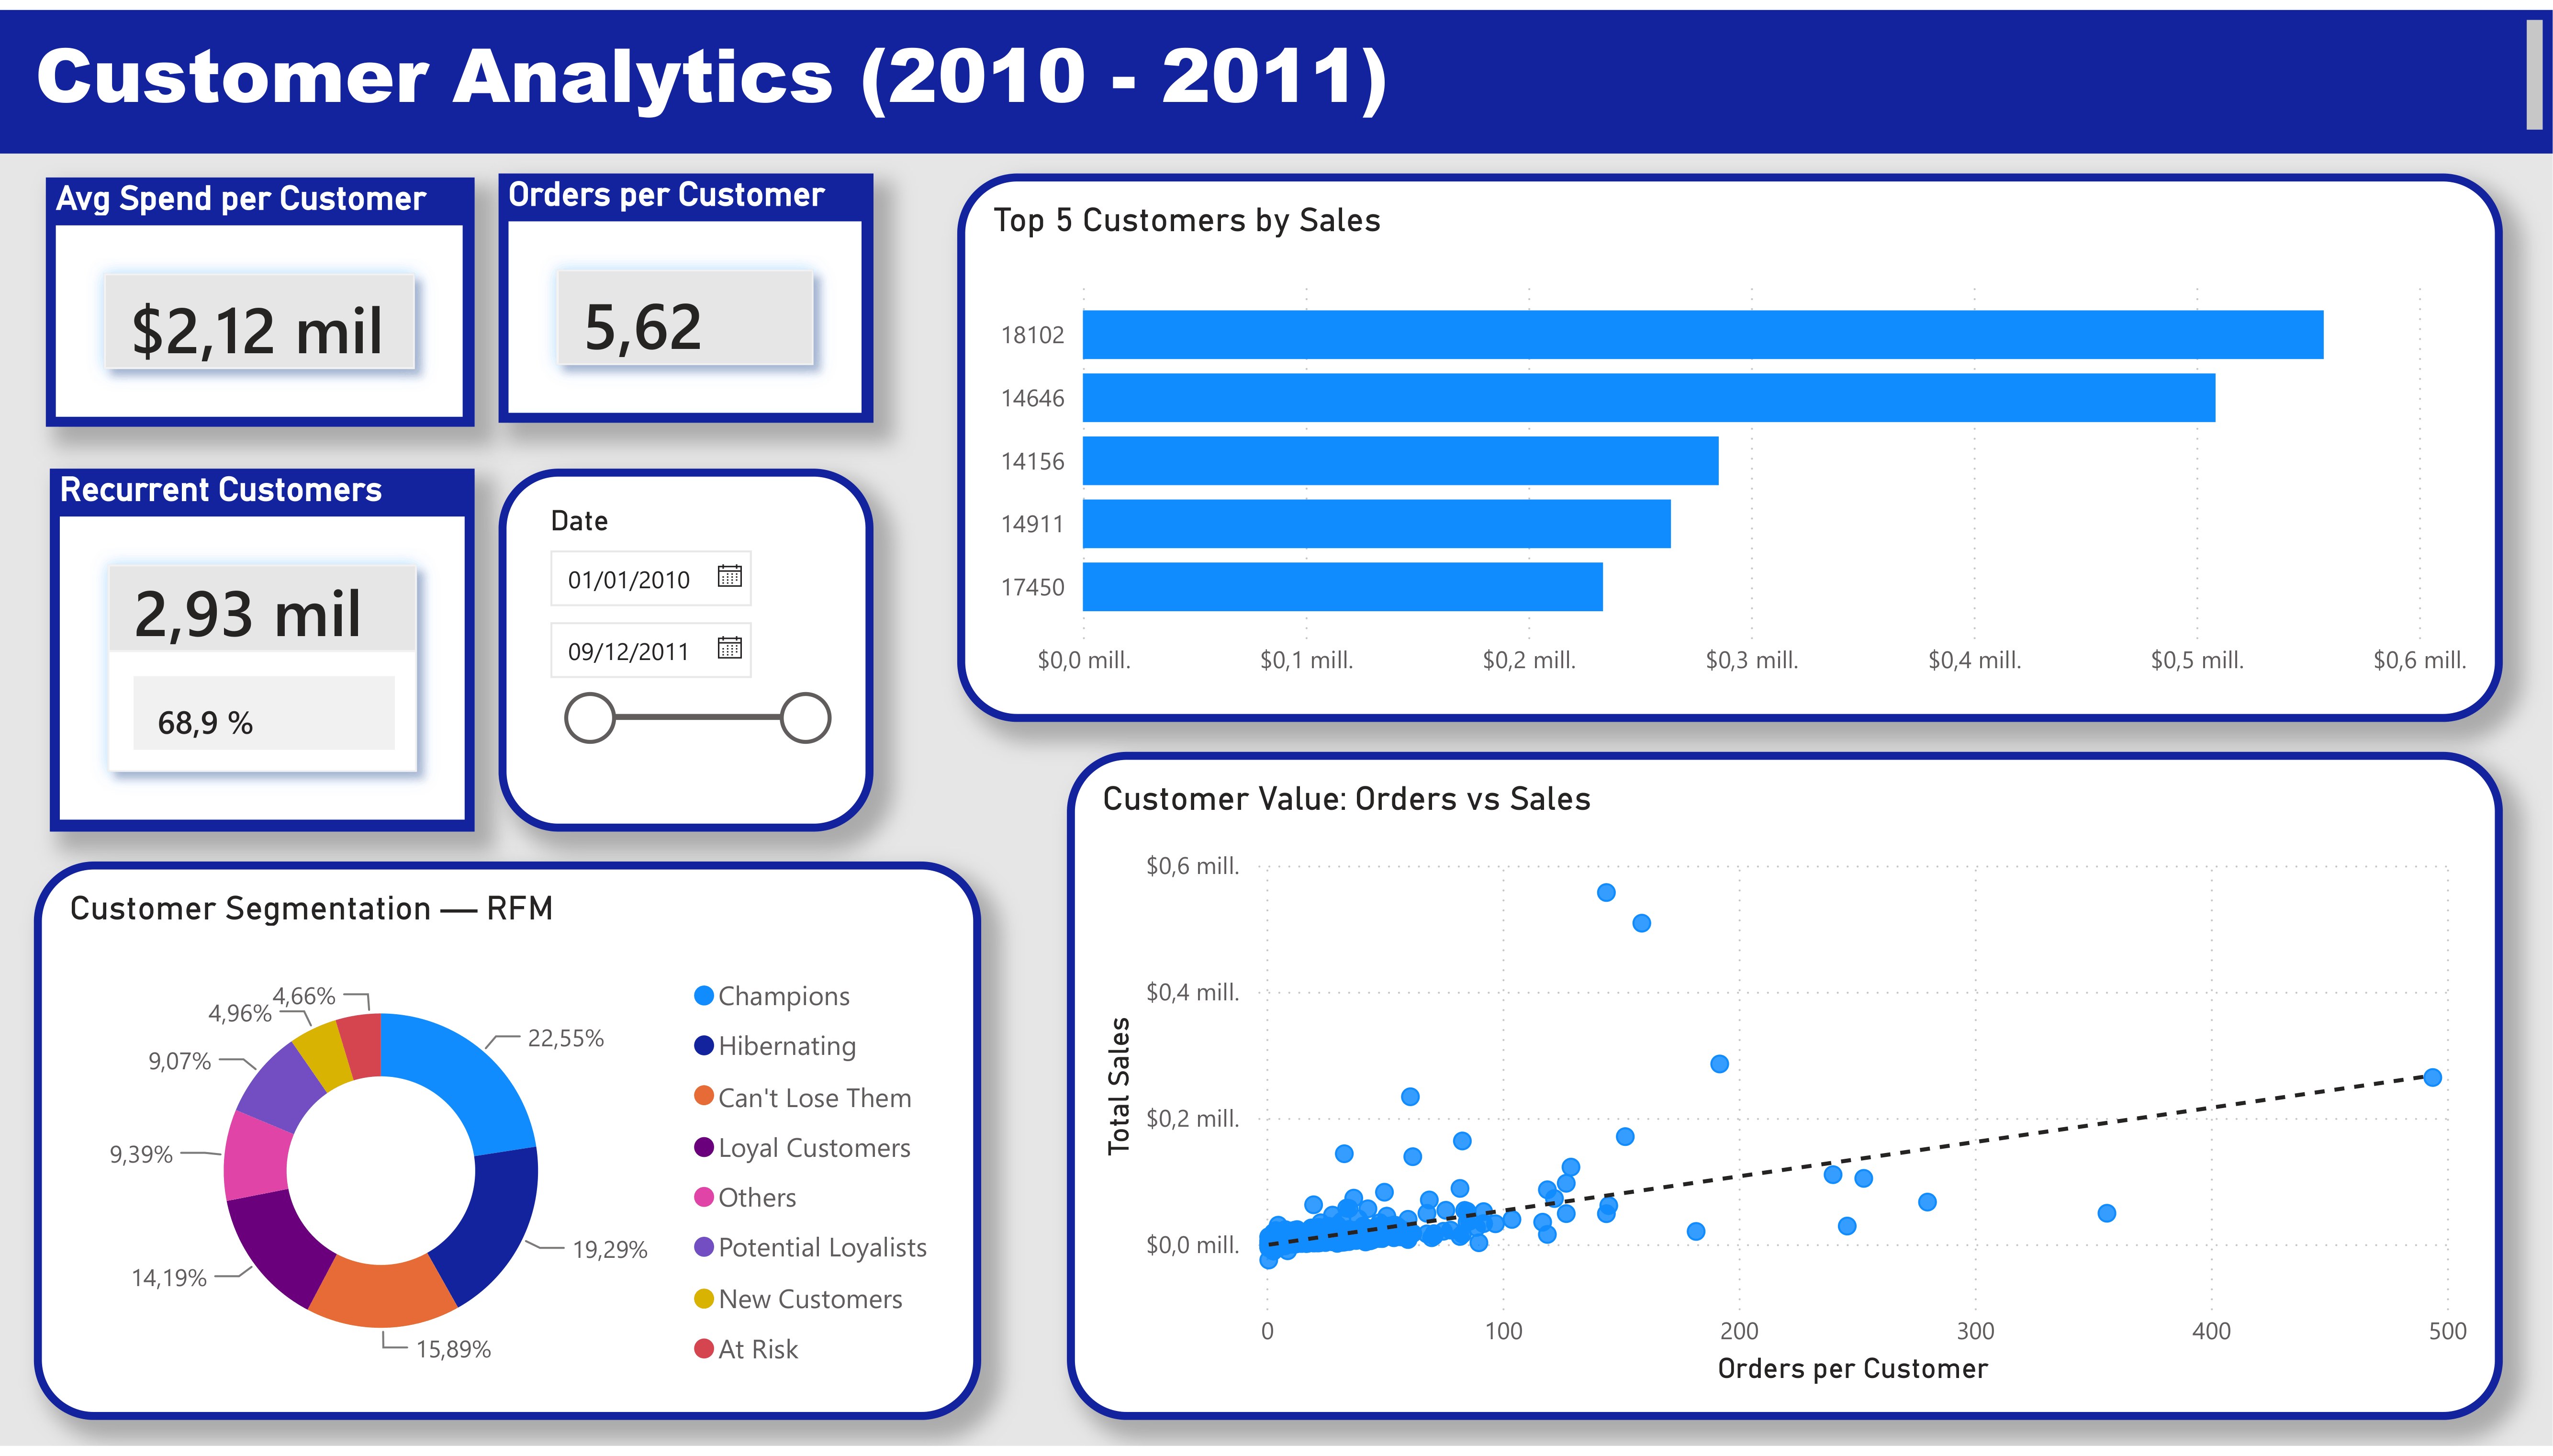

Layout of this report page (visuals, bound fields, positions):
{"tool":"powerbi","page":{"name":"Customer Analytics","canvas":[1280,720],"ordinal":1},"visuals":[{"type":"shape","box":[0,0,1280,72],"z":0},{"type":"cardVisual","title":"Avg Spend per Customer","fields":{"Data":["_Measures.Avg Spend per Customer"]},"box":[23.3,83.4,214.6,125],"z":0,"group":"g1"},{"type":"textbox","box":[0,0,1280,71.7],"z":1000},{"type":"group","id":"g1","title":"Group 1","box":[23.3,81.7,415,126.7],"z":1000,"group":"g2"},{"type":"cardVisual","title":"Orders per Customer","fields":{"Data":["_Measures.Orders per Customer"]},"box":[250.7,81.7,187.6,125],"z":1000,"group":"g1"},{"type":"cardVisual","title":"Recurrent Customers","fields":{"Data":["_Measures.Repeat Customers"]},"box":[25,230,213.3,181.7],"z":2000},{"type":"slicer","fields":{"Values":["Dim_Date.Date"]},"box":[250,230,188.3,181.7],"z":3000},{"type":"group","id":"g2","title":"Group 2","box":[23.3,81.7,415,126.7],"z":4000},{"type":"barChart","title":"Top 5 Customers by Sales","fields":{"Category":["Fact_Sales.Customer ID"],"Y":["_Measures.Total Sales"]},"box":[480,81.7,775,275],"z":5000},{"type":"scatterChart","title":"Customer Value: Orders vs Sales","fields":{"Category":["Fact_Sales.Customer ID"],"X":["_Measures.Orders per Customer"],"Y":["_Measures.Total Sales"]},"box":[535,371.7,720,335],"z":6000},{"type":"donutChart","title":"Customer Segmentation — RFM","fields":{"Category":["RFM Customers.Segment"],"Y":["Count(RFM Customers.Customer ID)"]},"box":[16.7,426.7,475,280],"z":7000}]}

Visuals, with their boxes in screenshot pixels (x1, y1, x2, y2), scaled from the page's 1280x720 canvas onto the 2553x1456 screenshot:
shape: [left=0, top=0, right=2553, bottom=146]
"Avg Spend per Customer" cardVisual: [left=46, top=168, right=474, bottom=421]
textbox: [left=0, top=0, right=2553, bottom=145]
"Group 1" group: [left=46, top=165, right=874, bottom=421]
"Orders per Customer" cardVisual: [left=500, top=165, right=874, bottom=418]
"Recurrent Customers" cardVisual: [left=50, top=465, right=475, bottom=832]
slicer - Dim_Date.Date: [left=499, top=465, right=874, bottom=832]
"Group 2" group: [left=46, top=165, right=874, bottom=421]
"Top 5 Customers by Sales" barChart: [left=957, top=165, right=2503, bottom=721]
"Customer Value: Orders vs Sales" scatterChart: [left=1067, top=751, right=2503, bottom=1429]
"Customer Segmentation — RFM" donutChart: [left=34, top=863, right=981, bottom=1429]
